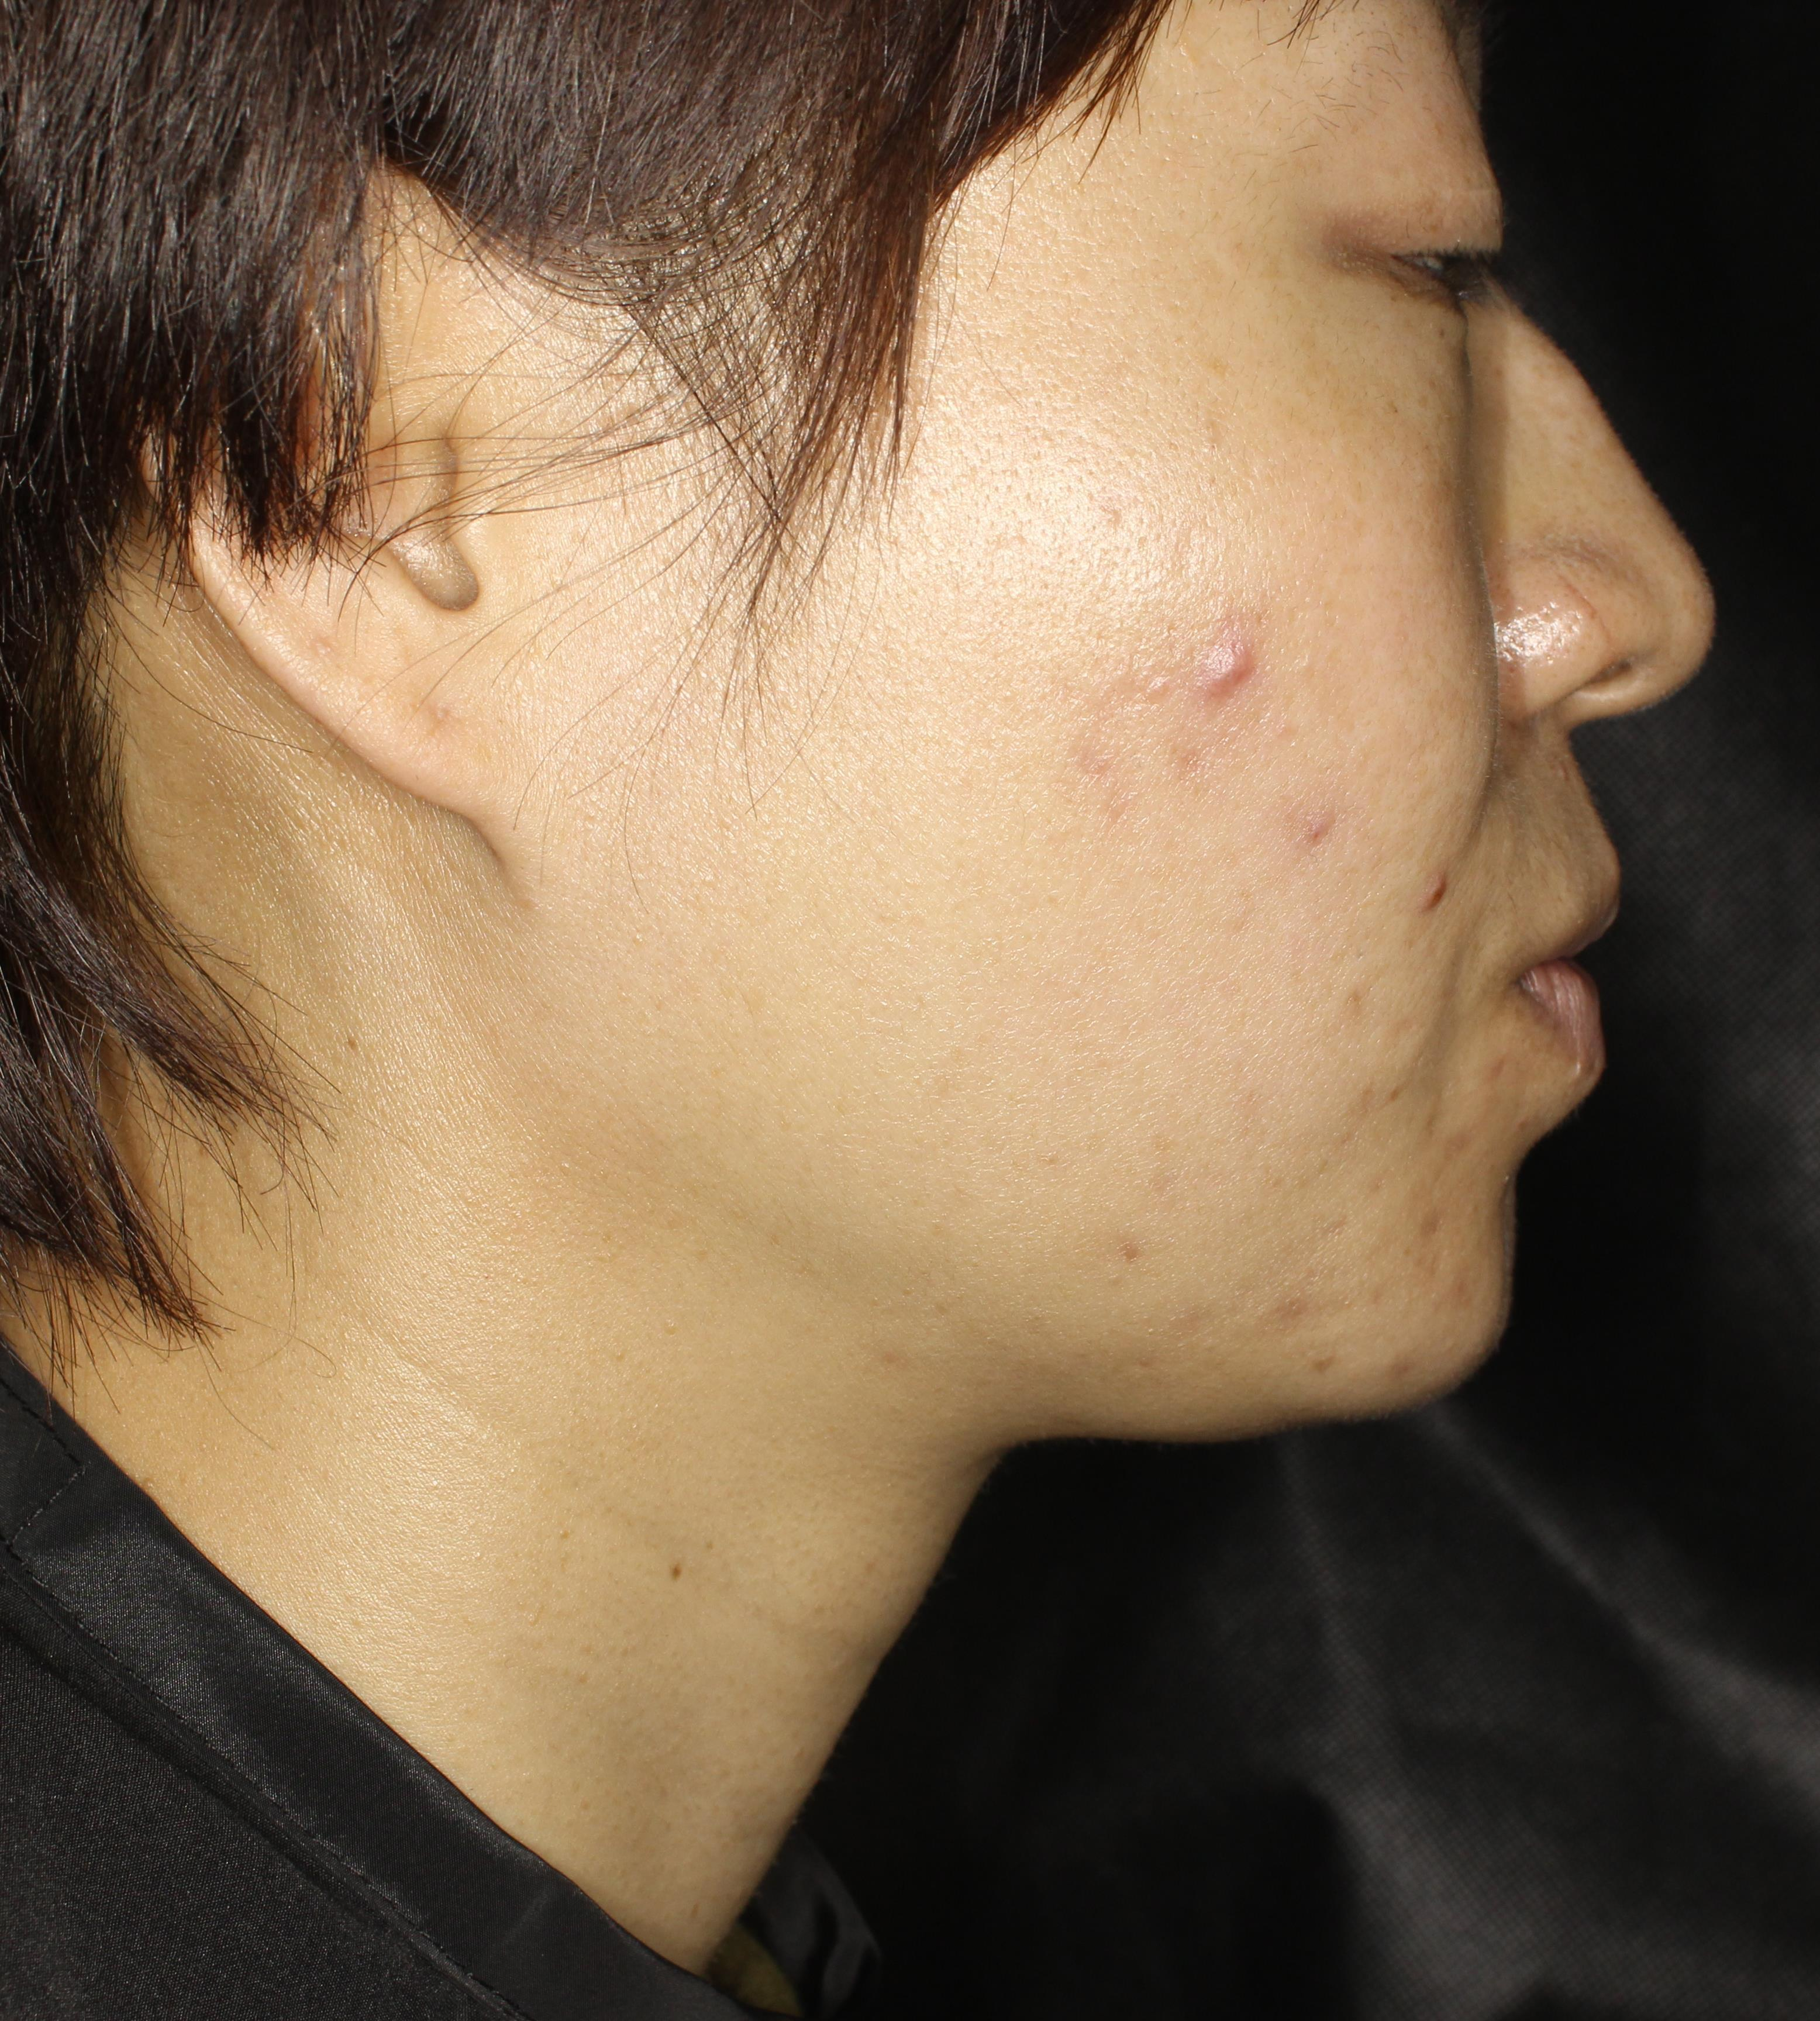fore: (1184, 608, 1296, 716), (1400, 850, 1462, 931), (1291, 783, 1349, 864)
